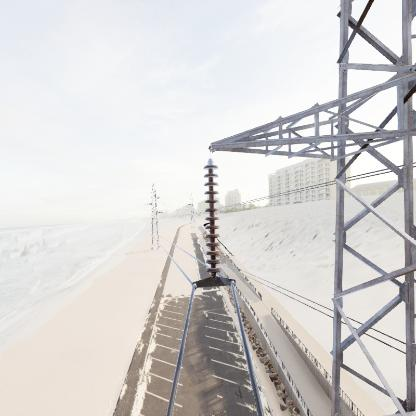insulator: (198, 157, 225, 279)
